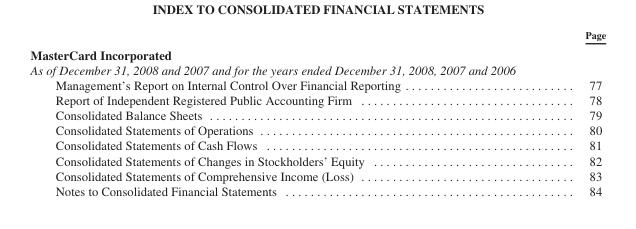table: (29, 28, 605, 197)
table column: (29, 28, 492, 197), (492, 28, 605, 197)
table column header: (29, 28, 605, 43)
table projected row header: (29, 43, 605, 61), (29, 61, 605, 76)
table row: (29, 43, 605, 61), (29, 76, 605, 92), (29, 167, 605, 183), (29, 28, 605, 43), (29, 61, 605, 76), (29, 92, 605, 107), (29, 107, 605, 122), (29, 122, 605, 137), (29, 137, 605, 152), (29, 152, 605, 167), (29, 183, 605, 197)
